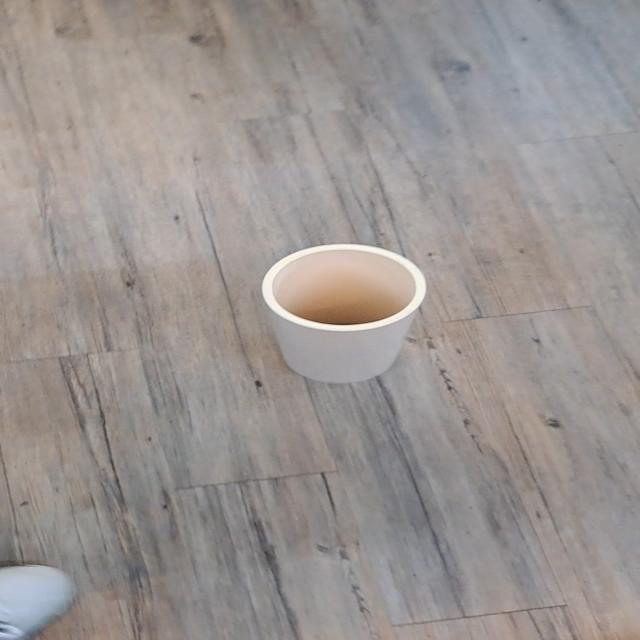CORAL: (241, 232, 447, 406)
